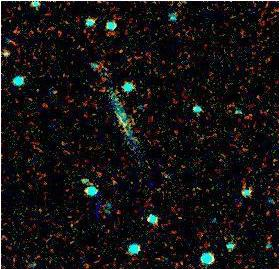star: (141, 170, 171, 200)
